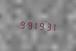nine: (36, 19, 41, 31), (17, 18, 22, 29), (23, 19, 28, 30)
one: (48, 20, 53, 32), (30, 19, 35, 30)
three: (42, 20, 47, 31)
